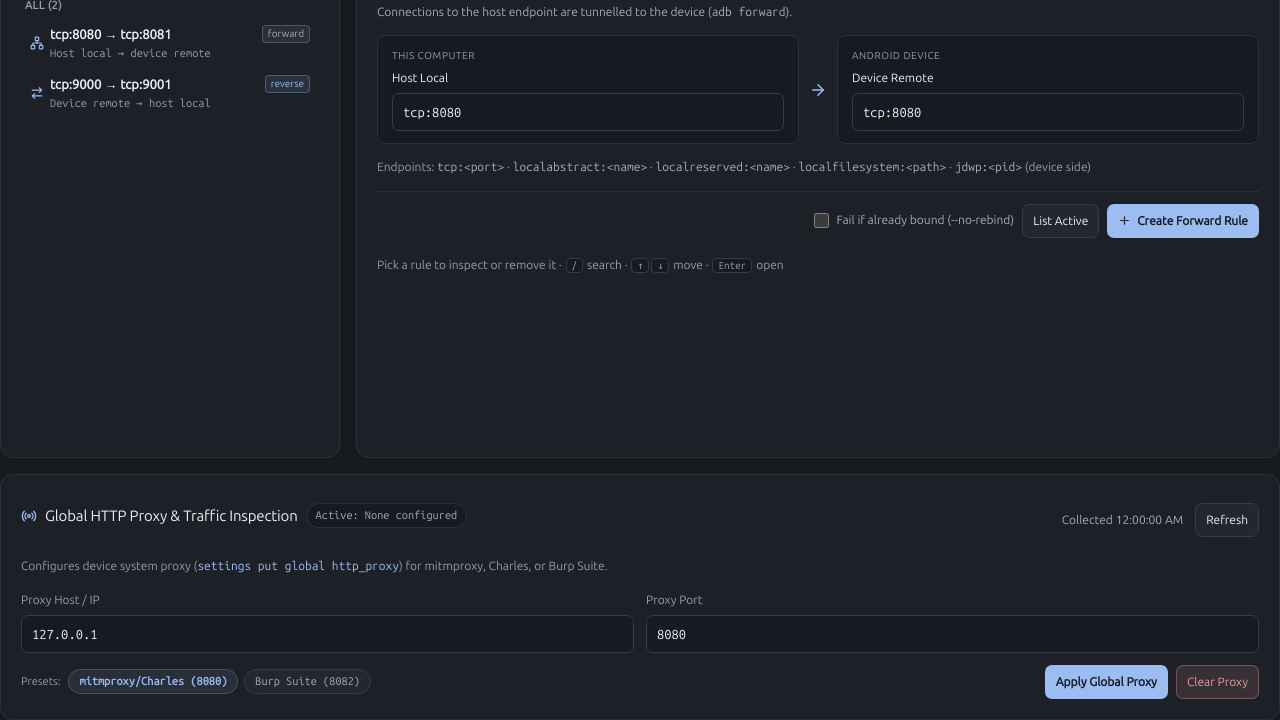
NetworkPage workbench › removes one selected rule and filters from the KPI card
(page scrolled)
Click the text "tcp:9000 → tcp:9001". click: (111, 84)
box: [50,77,172,91]
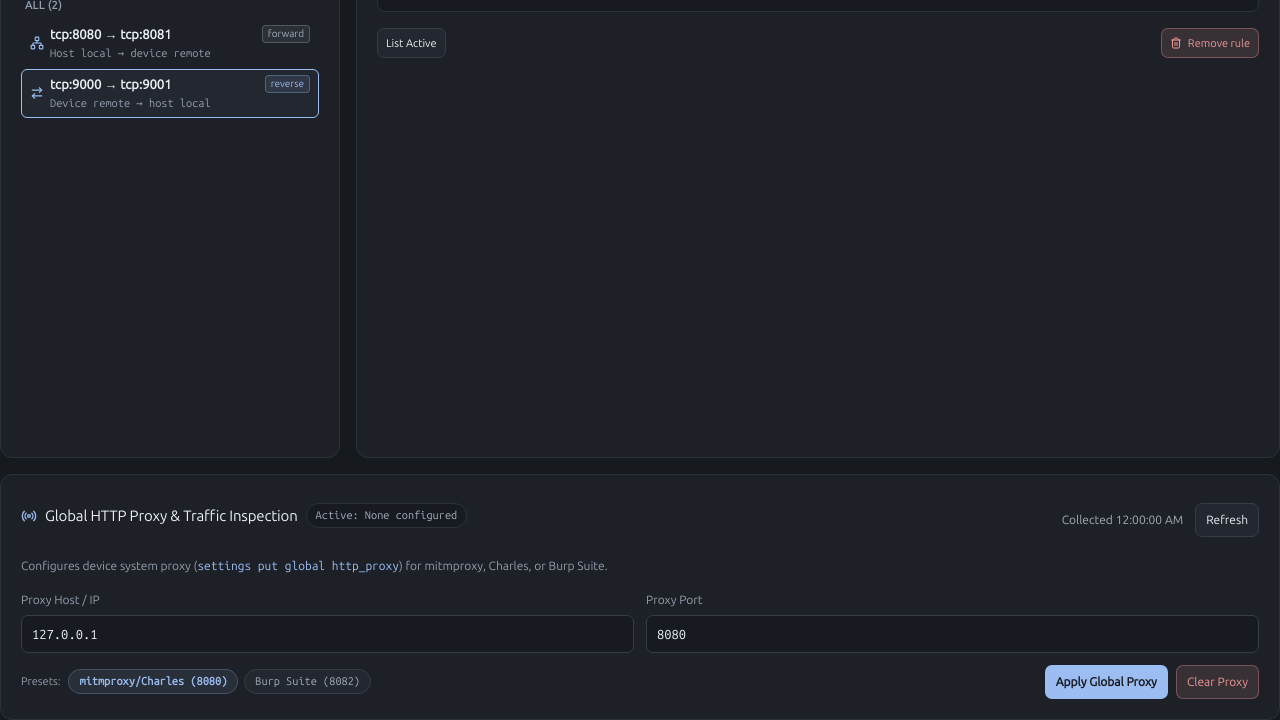
Click the button "Remove rule". click: (1210, 44)
box: [1161,28,1259,58]
(page scrolled)
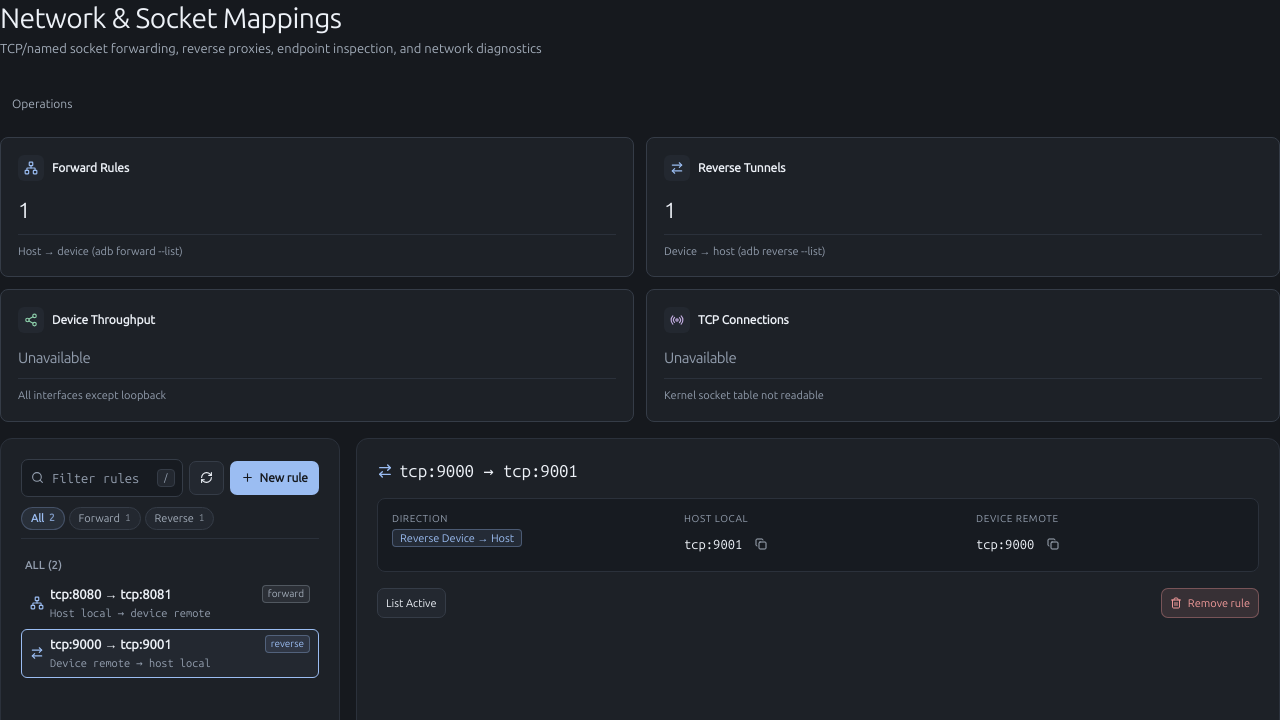
Click the button with test id "kpi-card-net-forward-rules". click: (91, 167)
box: [0,137,634,277]
(page scrolled)
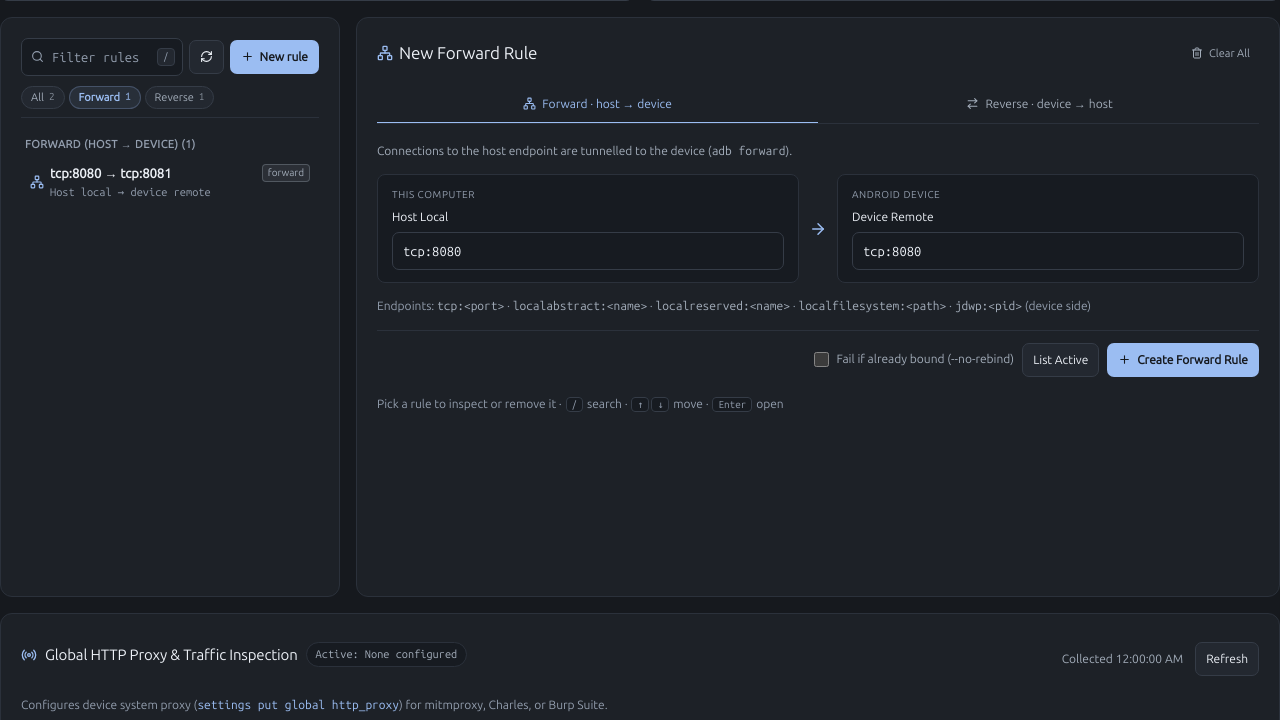
Now the option "tcp:9000 → tcp:9001" is gone
Now the button "Create Forward Rule" is shown, box [1107,343,1259,377]
